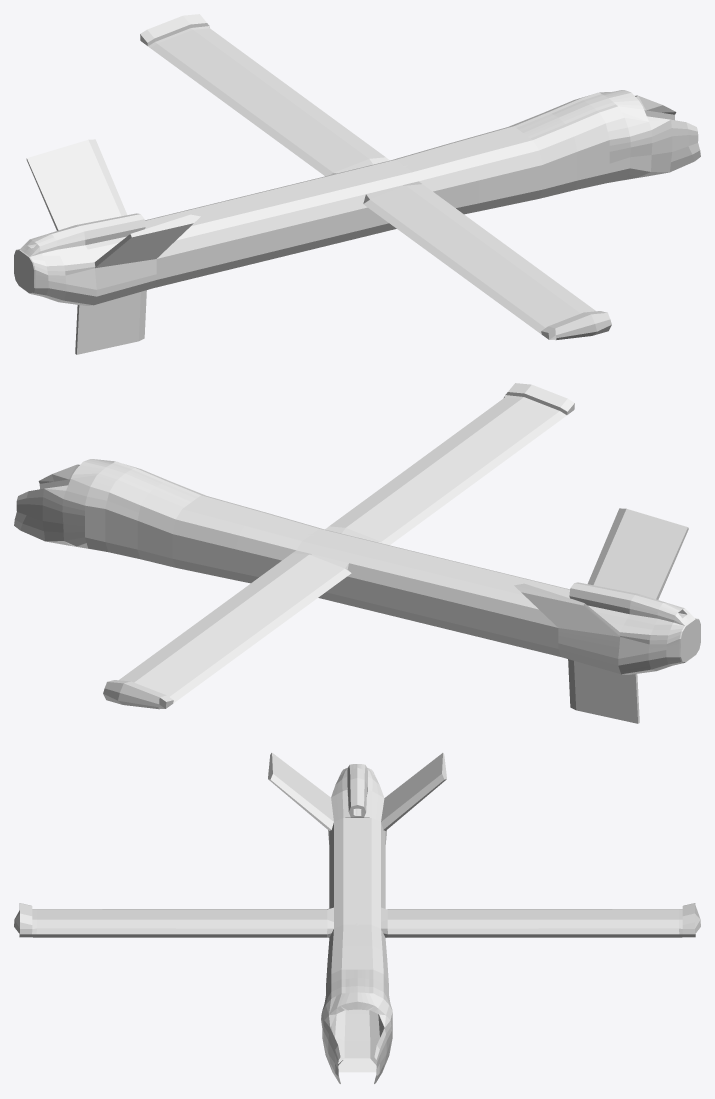
File: Drones_0.fbx
The picture shows the model from 3 angles, top to bottom: view 1: azimuth 30°, elevation 25°; view 2: azimuth 150°, elevation 25°; view 3: azimuth 270°, elevation 25°; orthographic projection. The views are drawn at different scales.
Parts seen in each view (by area): view 1: Cube; view 2: Cube; view 3: Cube.
Boxes of the visible parts, x1=… form: Cube: x1=14, y1=14, x2=700, y2=354; Cube: x1=14, y1=383, x2=700, y2=723; Cube: x1=14, y1=753, x2=700, y2=1083.
Bounding box in the file's own units: 2026 × 472 × 2187.
